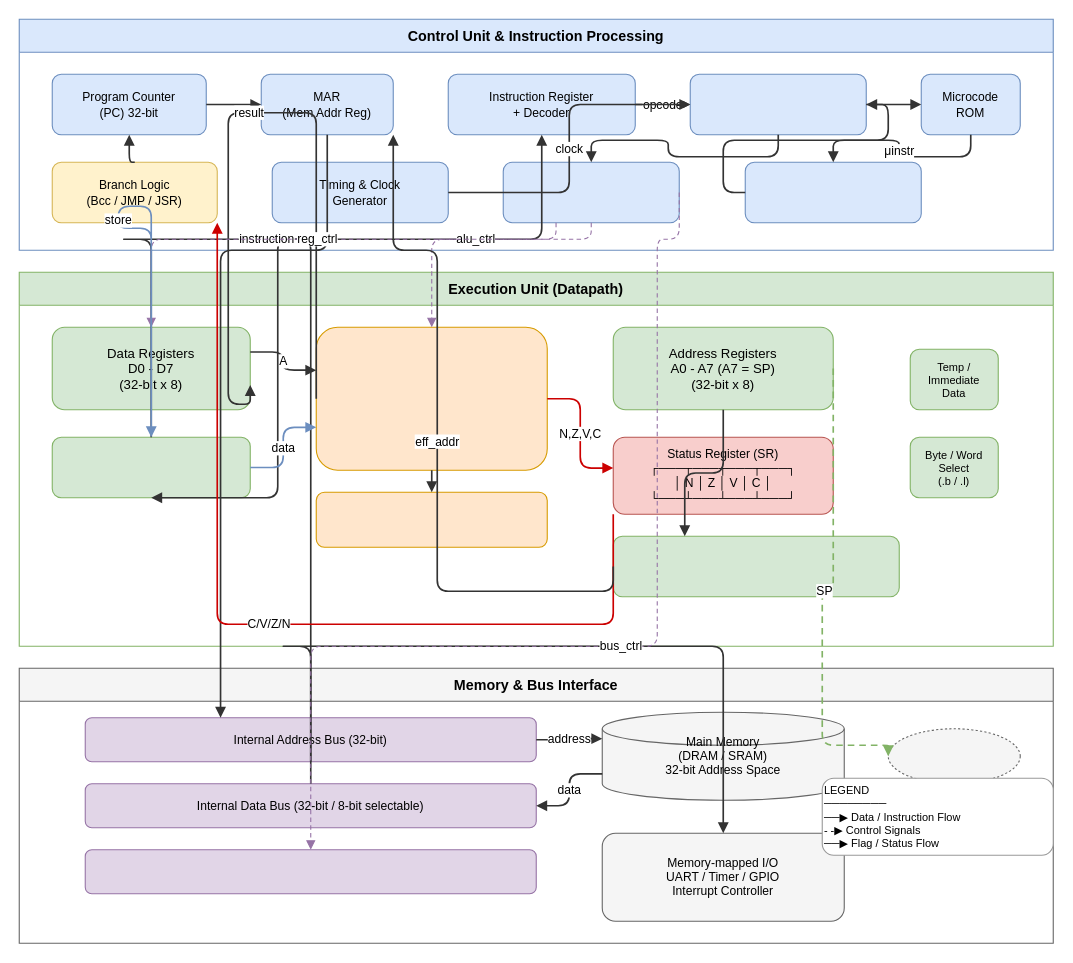
Some shapes in this 1073 by 963 pixel diagram are drawn without their labels. The centre of each missing label's shape, as x and y in pixels:
"Address Generation Unit (AGU) (An) (An)+ -(An) d(An) d(An,Xn)" belongs at (x=755, y=566).
"ALU (Arithmetic & Logic Unit) add / sub / cmp / mul / div and / or / xor / not" belongs at (x=431, y=398).
"Control FSM / Sequencer" belongs at (x=777, y=104).
"Control Signal Distribution" belongs at (x=590, y=192).
"Internal Control Bus (R/W, Size, Timing)" belongs at (x=310, y=871).
"MDR (Mem Data Reg) 32-bit" belongs at (x=150, y=467).
"Microsequencer (next-addr logic)" belongs at (x=832, y=192).
"Shifter (asl / asr / lsl / lsr)" belongs at (x=431, y=519).
"Stack (via A7/SP) JSR / RTS / LINK / UNLK" belongs at (x=953, y=756).
